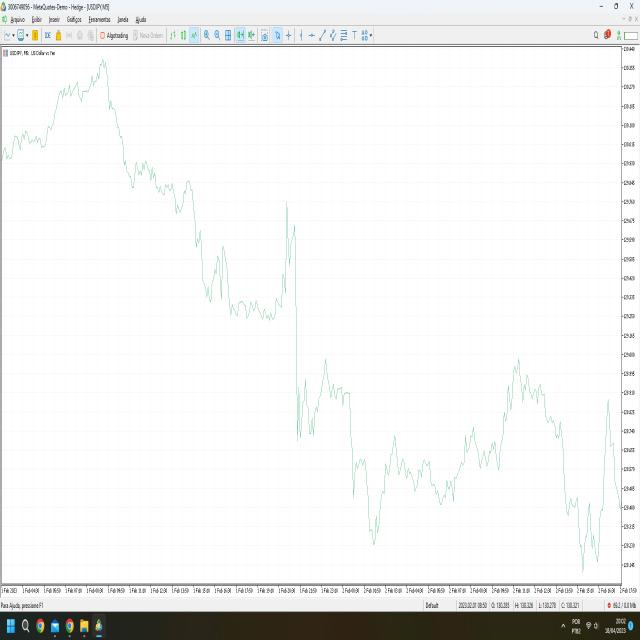bandeira_baixa: (288, 174, 353, 450)
fundo_duplo: (556, 490, 614, 588)
